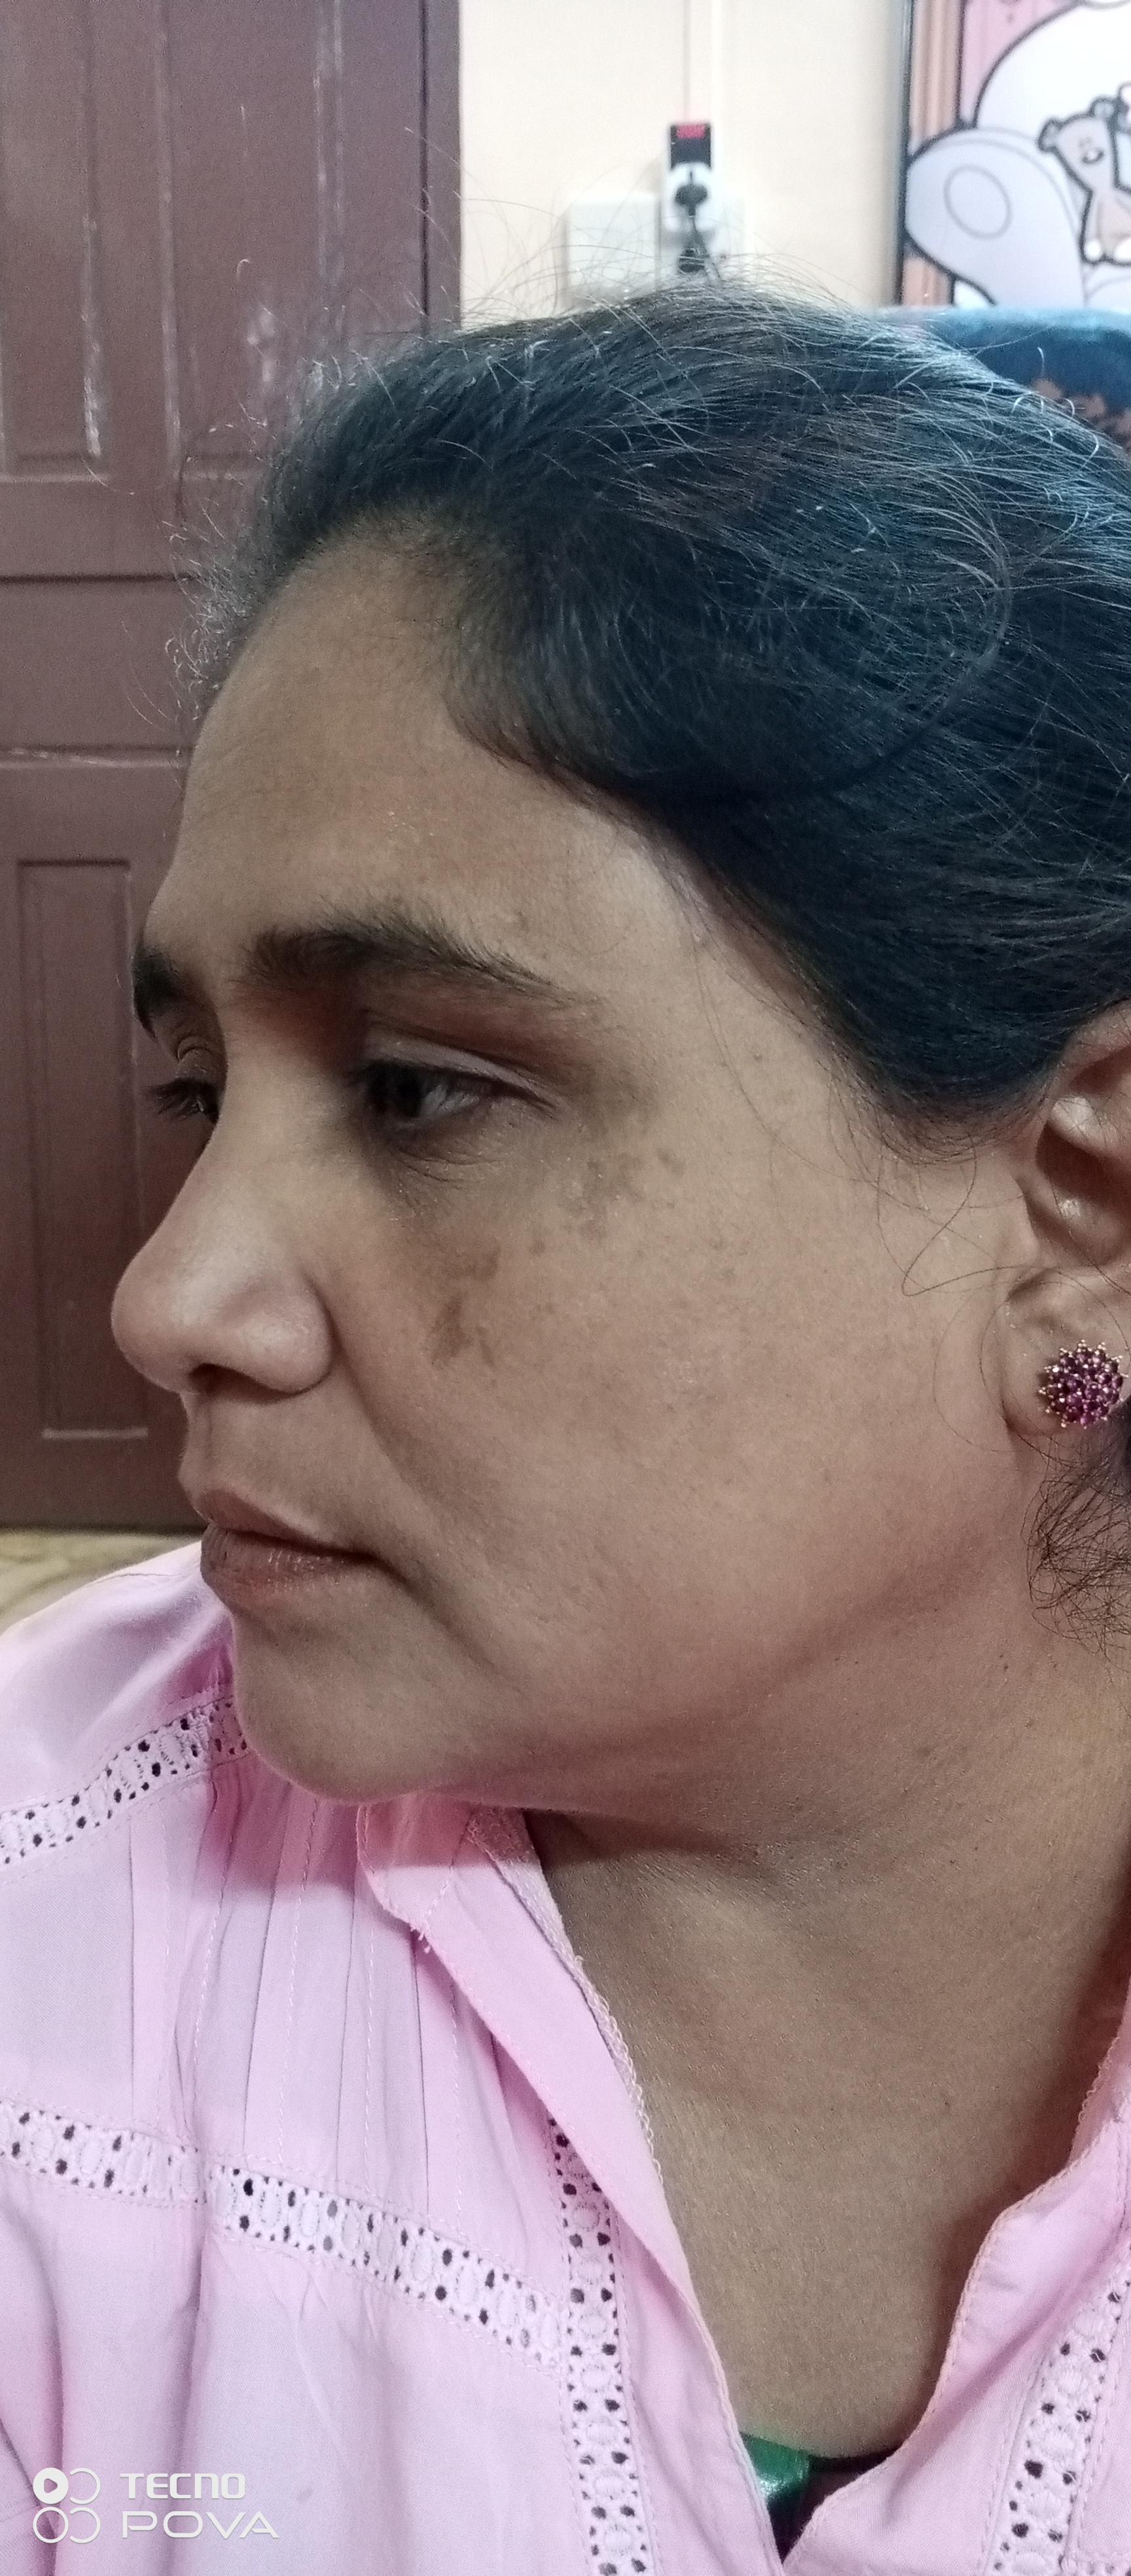Acne: (505, 897, 538, 936), (679, 930, 723, 954)
Wrinkles: (317, 1308, 424, 1493), (372, 1557, 498, 1674), (178, 790, 273, 836), (192, 721, 271, 770)
